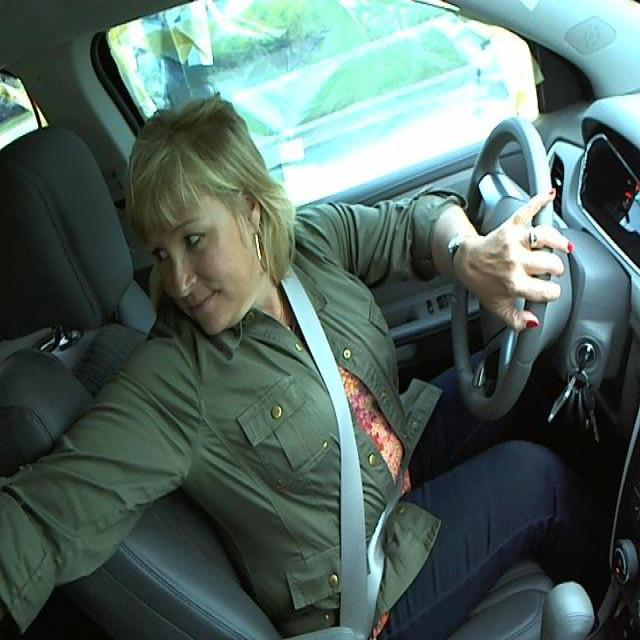seatbelt: (280, 288, 392, 617)
